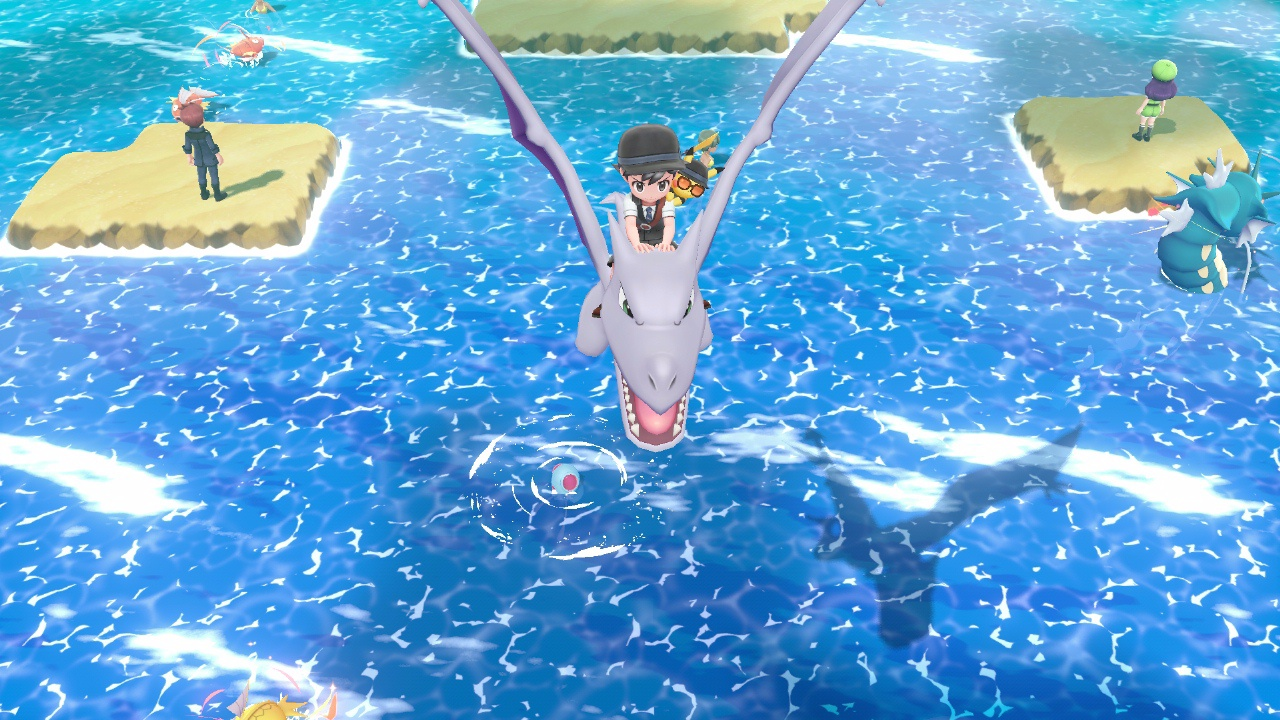Golden: (227, 684, 308, 720)
